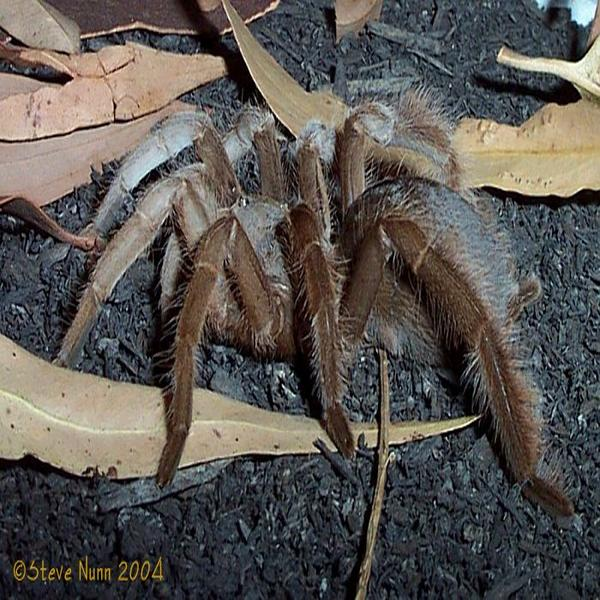Tarantula Spider: (81, 104, 551, 497)
